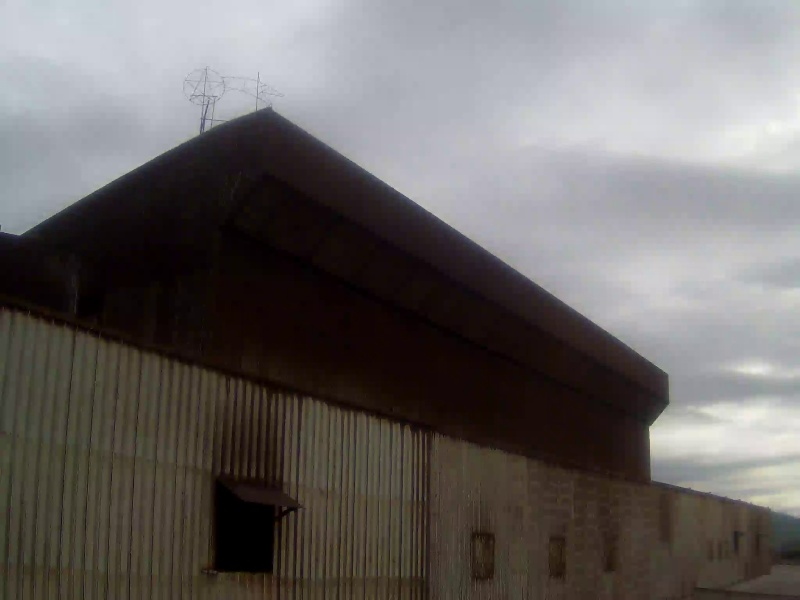bom: (247, 37, 707, 459), (593, 253, 800, 480), (11, 13, 273, 175)
